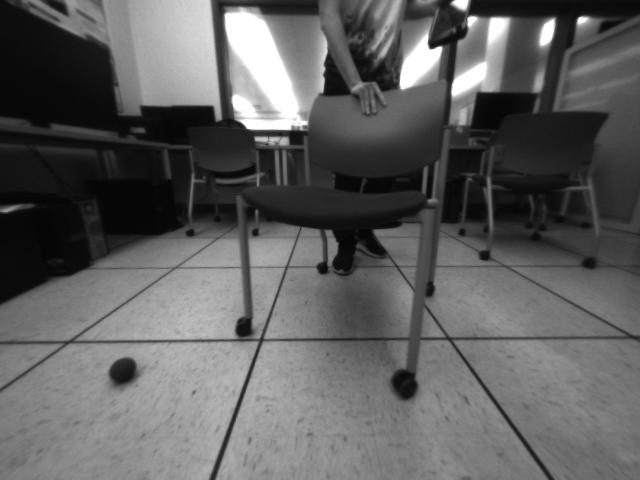dogtoy: (104, 353, 144, 389)
